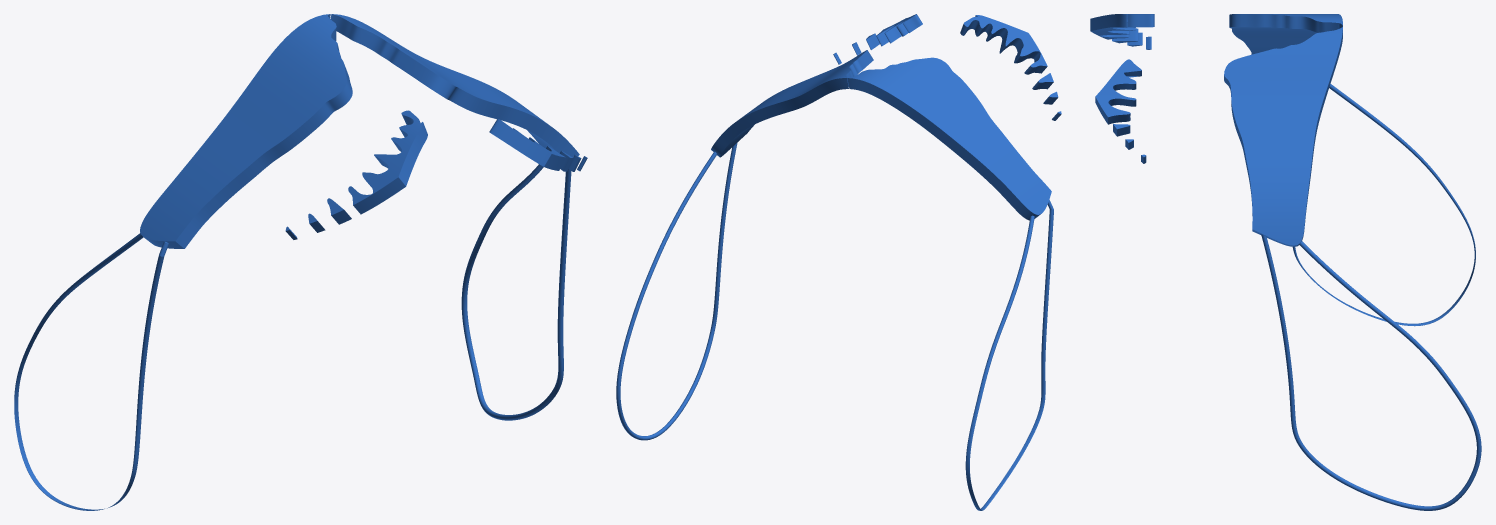
The model's file is mascara-javi-l1.obj.
The picture shows the model from 3 angles, left to right: view 1: azimuth 30°, elevation 25°; view 2: azimuth 150°, elevation 25°; view 3: azimuth 270°, elevation 25°; orthographic projection. The views are drawn at different scales.
Size of the model in its own units: 205 by 207 by 182.
